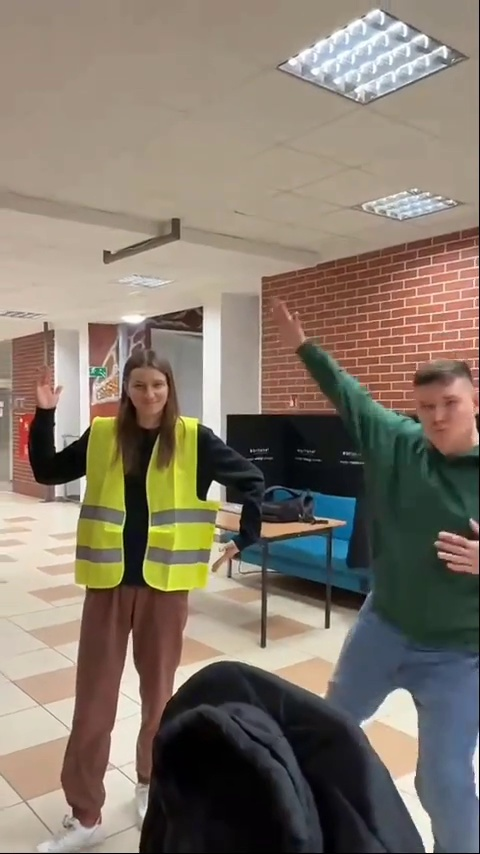no vest: (311, 344, 480, 854)
vest: (40, 345, 272, 854)
